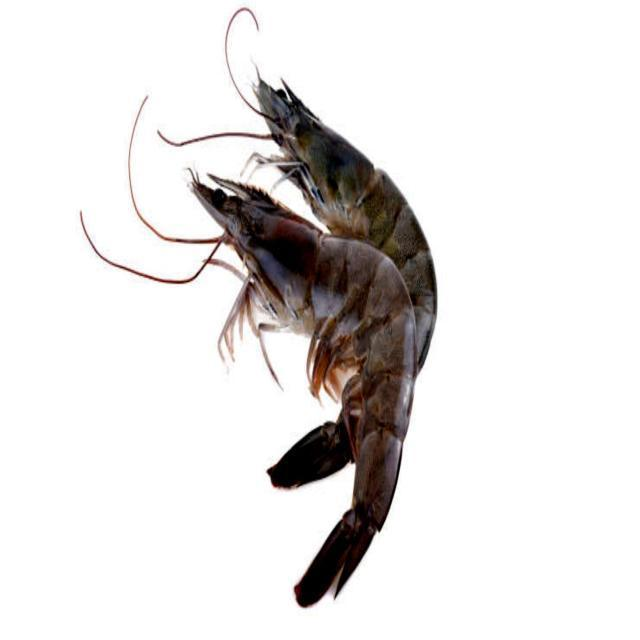shrimp: (195, 181, 417, 591), (255, 77, 437, 370), (269, 411, 356, 486)
